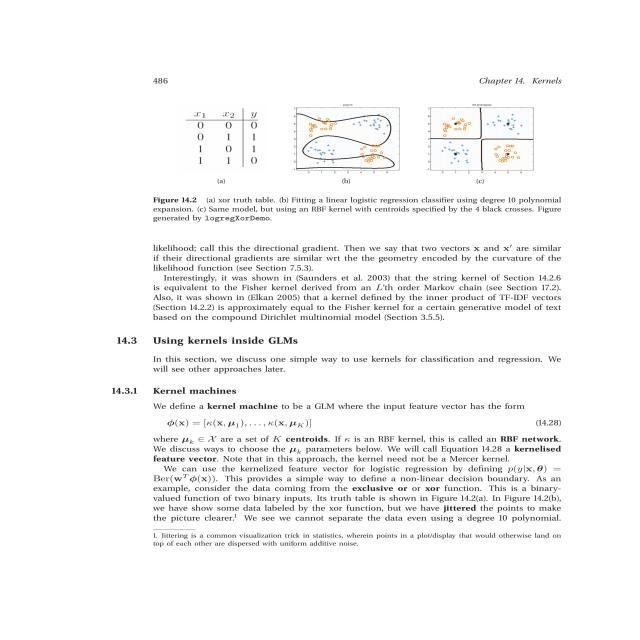diagram: (120, 99, 588, 234)
